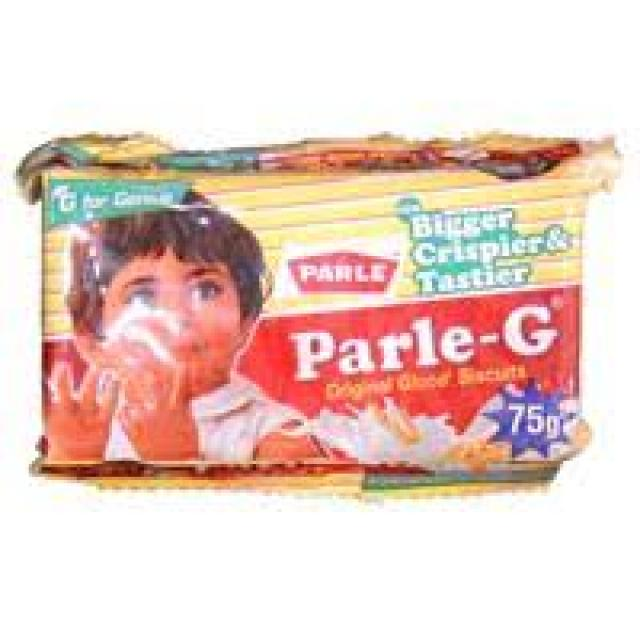parle-g: (28, 136, 588, 496)
